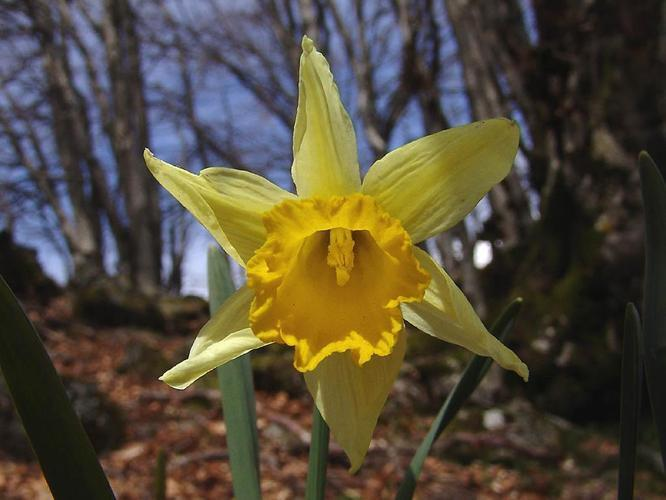flower1: (131, 19, 551, 480)
